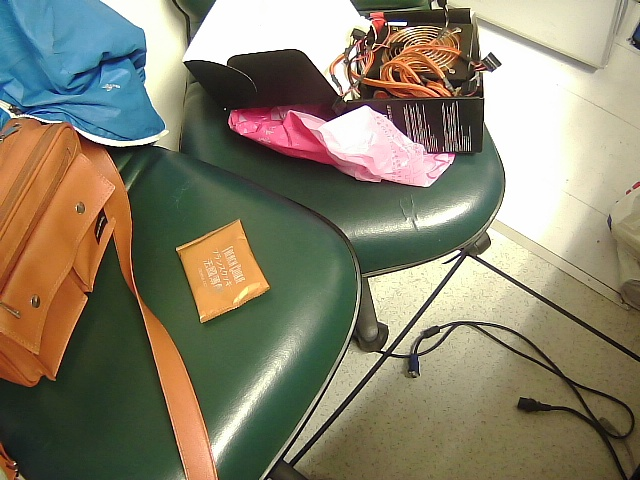frenchcookie: (167, 217, 292, 335)
